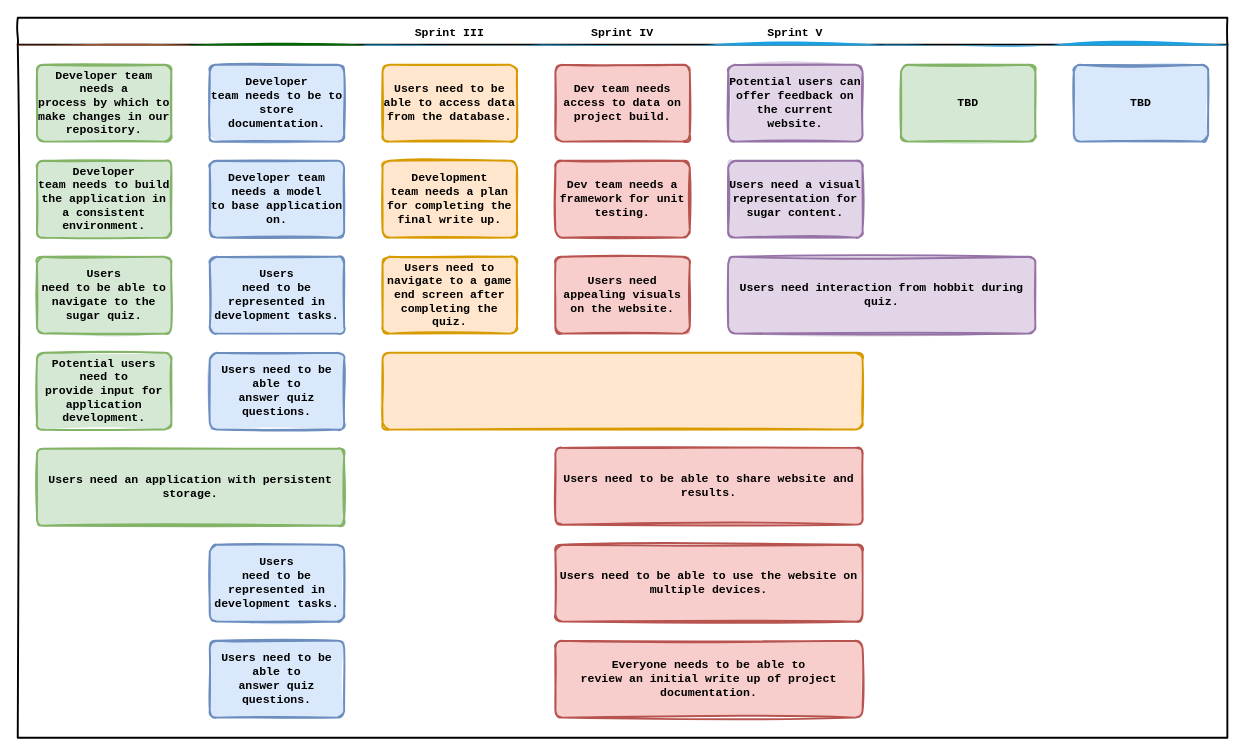
This 1244x755 diagram has some shape labels left out. The shapes that lost their labels are listed below. From the top down, each one's box as (x1, y1, x2, y2) in pixels, then its label:
(17, 44, 190, 737): Sprint I
(190, 44, 363, 737): Sprint II
(381, 351, 863, 430): Users need to see quiz results and review answers.
(881, 44, 1054, 737): Sprint VI
(1054, 44, 1227, 737): Sprint VII
